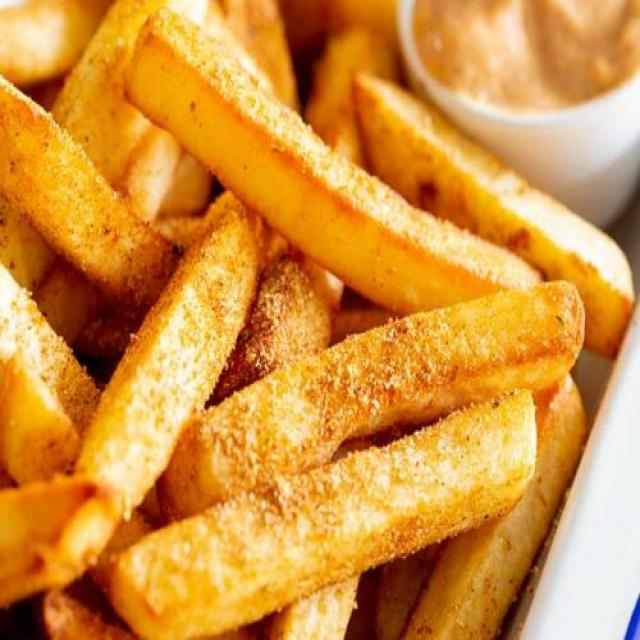Fries: (0, 1, 638, 640)
